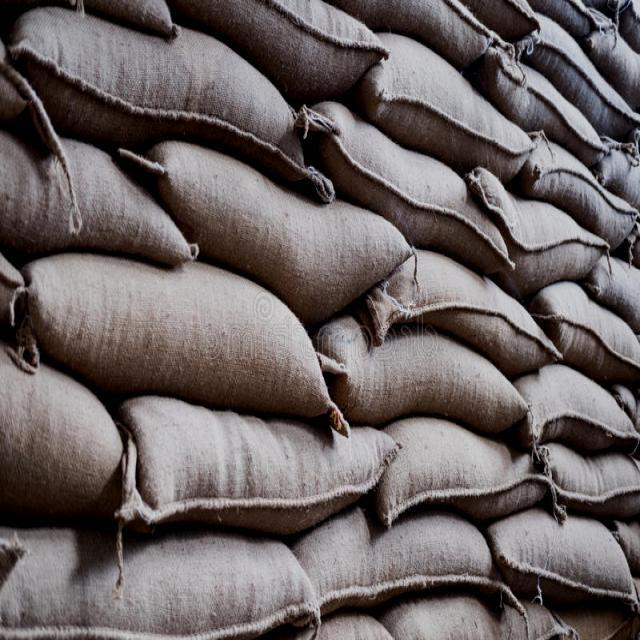gunny_bag: (23, 246, 342, 431), (9, 1, 308, 178), (142, 139, 410, 329), (125, 388, 404, 538), (3, 522, 320, 640), (302, 99, 514, 268), (314, 303, 524, 443), (353, 23, 535, 183), (290, 502, 506, 630), (0, 120, 197, 260), (0, 328, 131, 521), (376, 407, 552, 538), (167, 2, 392, 94), (460, 168, 610, 304), (481, 495, 634, 618), (460, 46, 618, 162), (514, 135, 640, 252), (528, 272, 640, 384), (506, 359, 638, 454), (538, 432, 638, 528)
